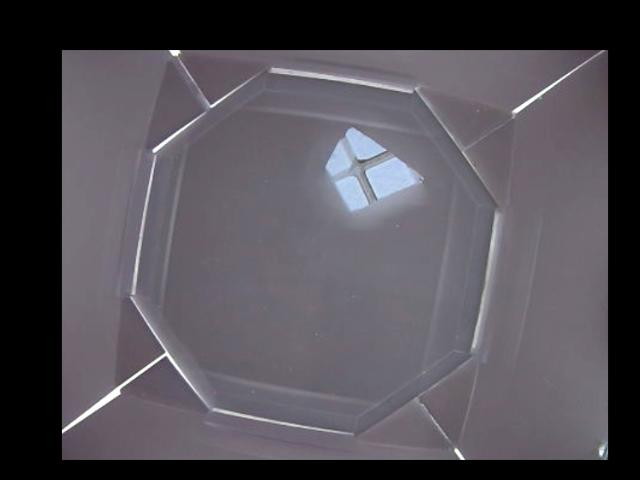China: (327, 126, 422, 216)
